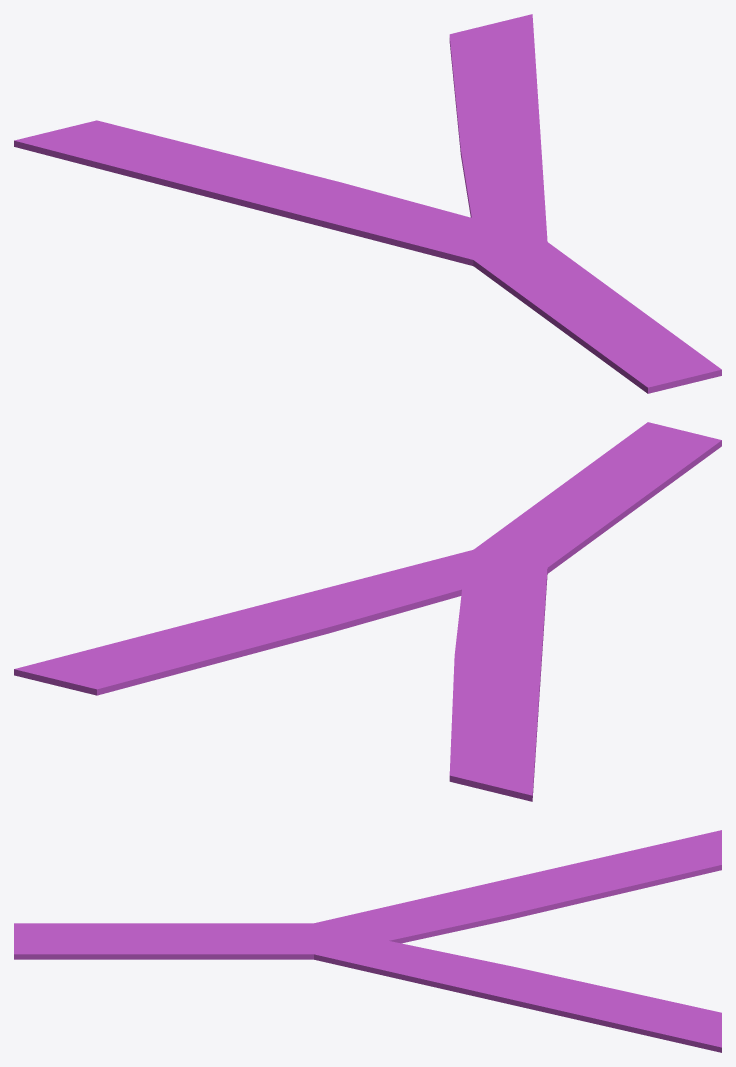
Rendered from IMU_13.gltf.
3 renders of one model, top to bottom at view 1: azimuth 30°, elevation 25°; view 2: azimuth 150°, elevation 25°; view 3: azimuth 270°, elevation 25°, orthographic. The views are drawn at different scales.
Visible parts, largest first — view 1: mesh7621, mesh7613, mesh7612; view 2: mesh7621, mesh7618, mesh7612, mesh7617; view 3: mesh7621, mesh7622, mesh7623, mesh7615, mesh7616.
Part boxes in pixels (left/top/right/bottom): mesh7621: left=14, top=14, right=721, bottom=387; mesh7613: left=14, top=140, right=473, bottom=265; mesh7612: left=473, top=260, right=647, bottom=393; mesh7621: left=14, top=422, right=721, bottom=795; mesh7618: left=97, top=627, right=327, bottom=695; mesh7612: left=547, top=440, right=721, bottom=573; mesh7617: left=327, top=589, right=461, bottom=633; mesh7621: left=14, top=830, right=721, bottom=1047; mesh7622: left=314, top=954, right=721, bottom=1052; mesh7623: left=14, top=954, right=313, bottom=959; mesh7615: left=508, top=865, right=721, bottom=919; mesh7616: left=389, top=915, right=508, bottom=943.
Size of the model in its own units: 0.000873 by 1e-05 by 0.0012.
